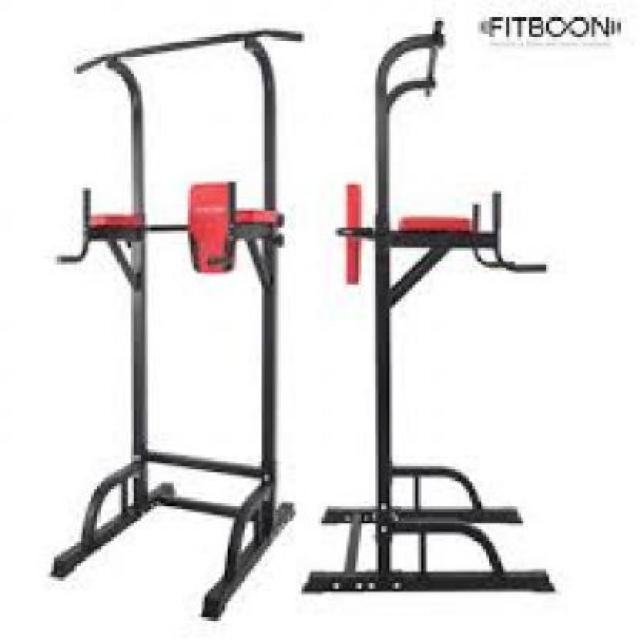chinning dipping: (52, 26, 302, 622), (308, 41, 557, 592)
